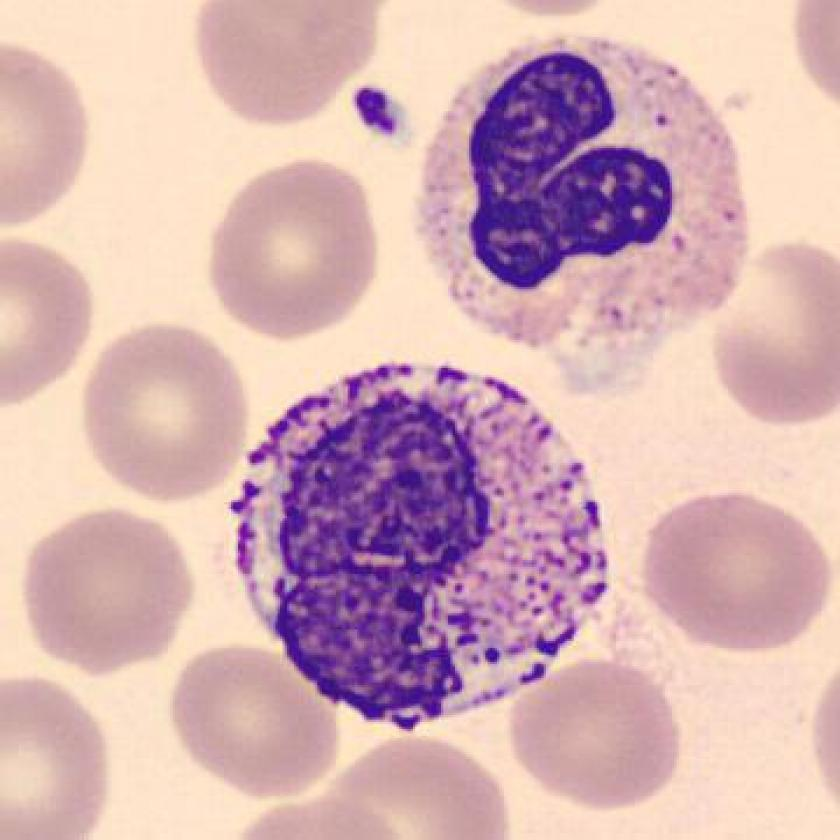basophil: (230, 346, 622, 732), (412, 27, 755, 360)
